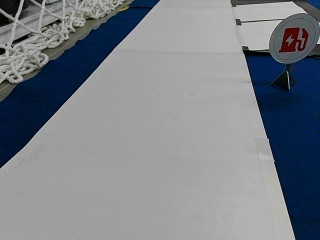battery: (268, 12, 318, 64)
